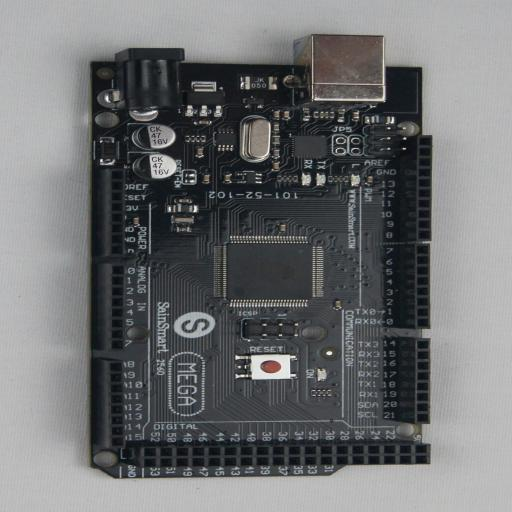Arduino Mega 2560 -Black-: (86, 34, 432, 479)
